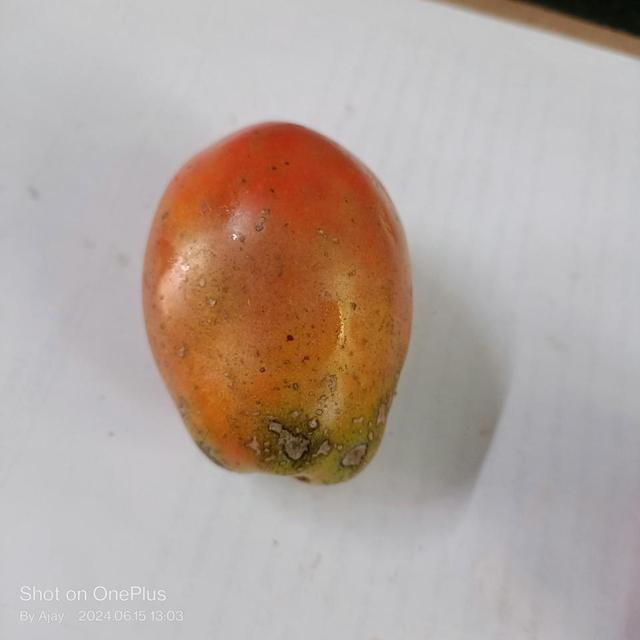Bacterial Spot Fruit: (8, 15, 255, 303)
